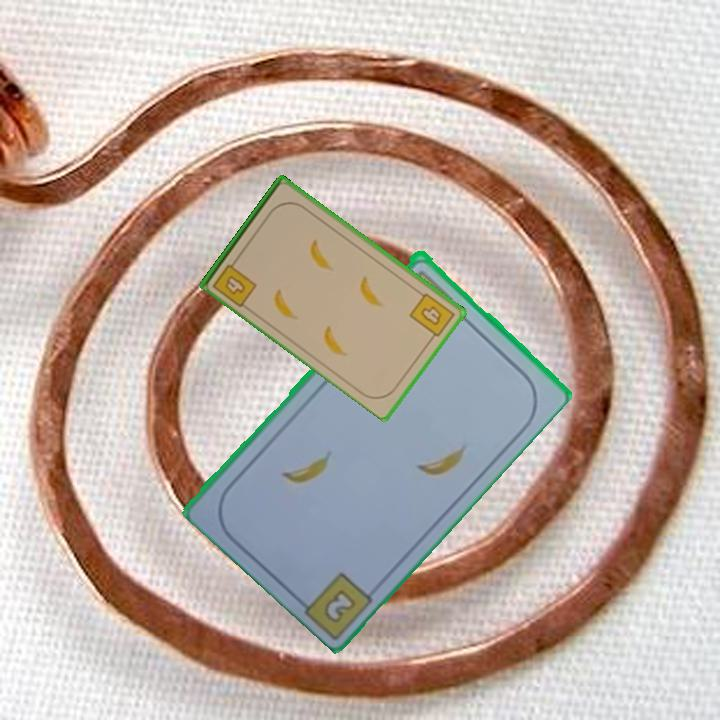2b: (323, 588, 356, 623)
4b: (406, 289, 458, 344), (209, 254, 260, 310)
